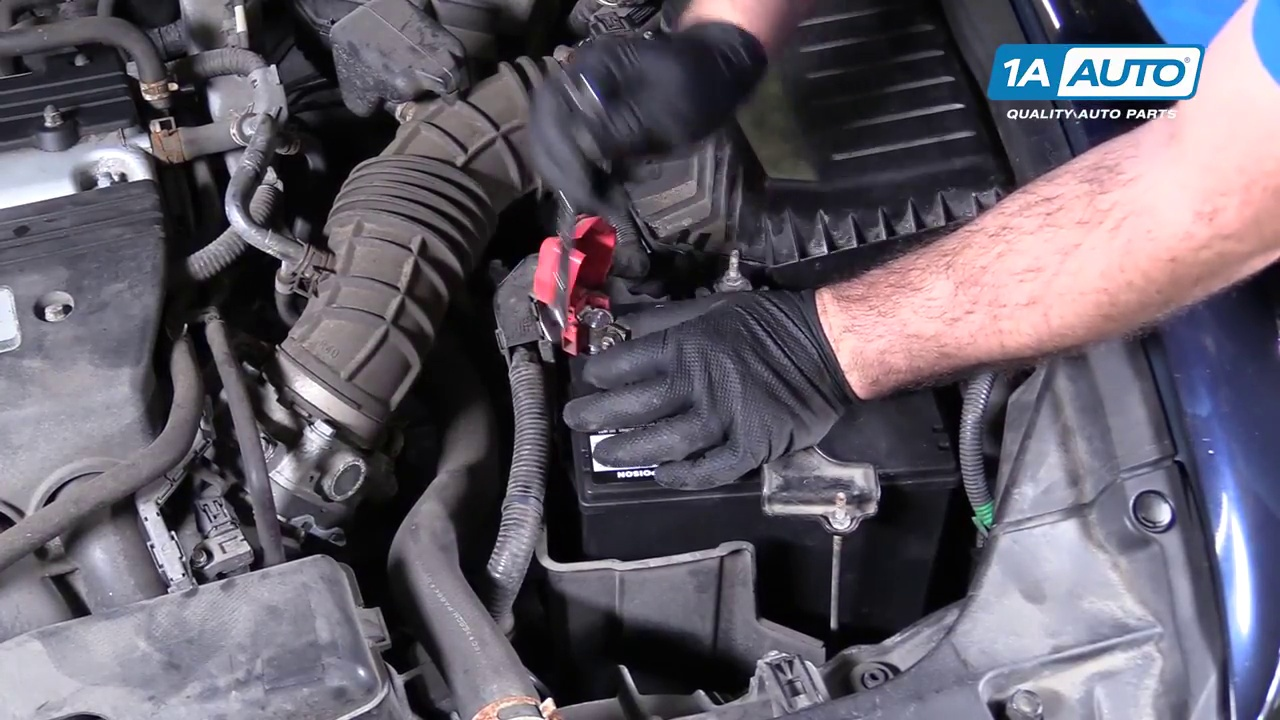battery: (549, 285, 963, 504)
pos_touched: (530, 174, 685, 432)
